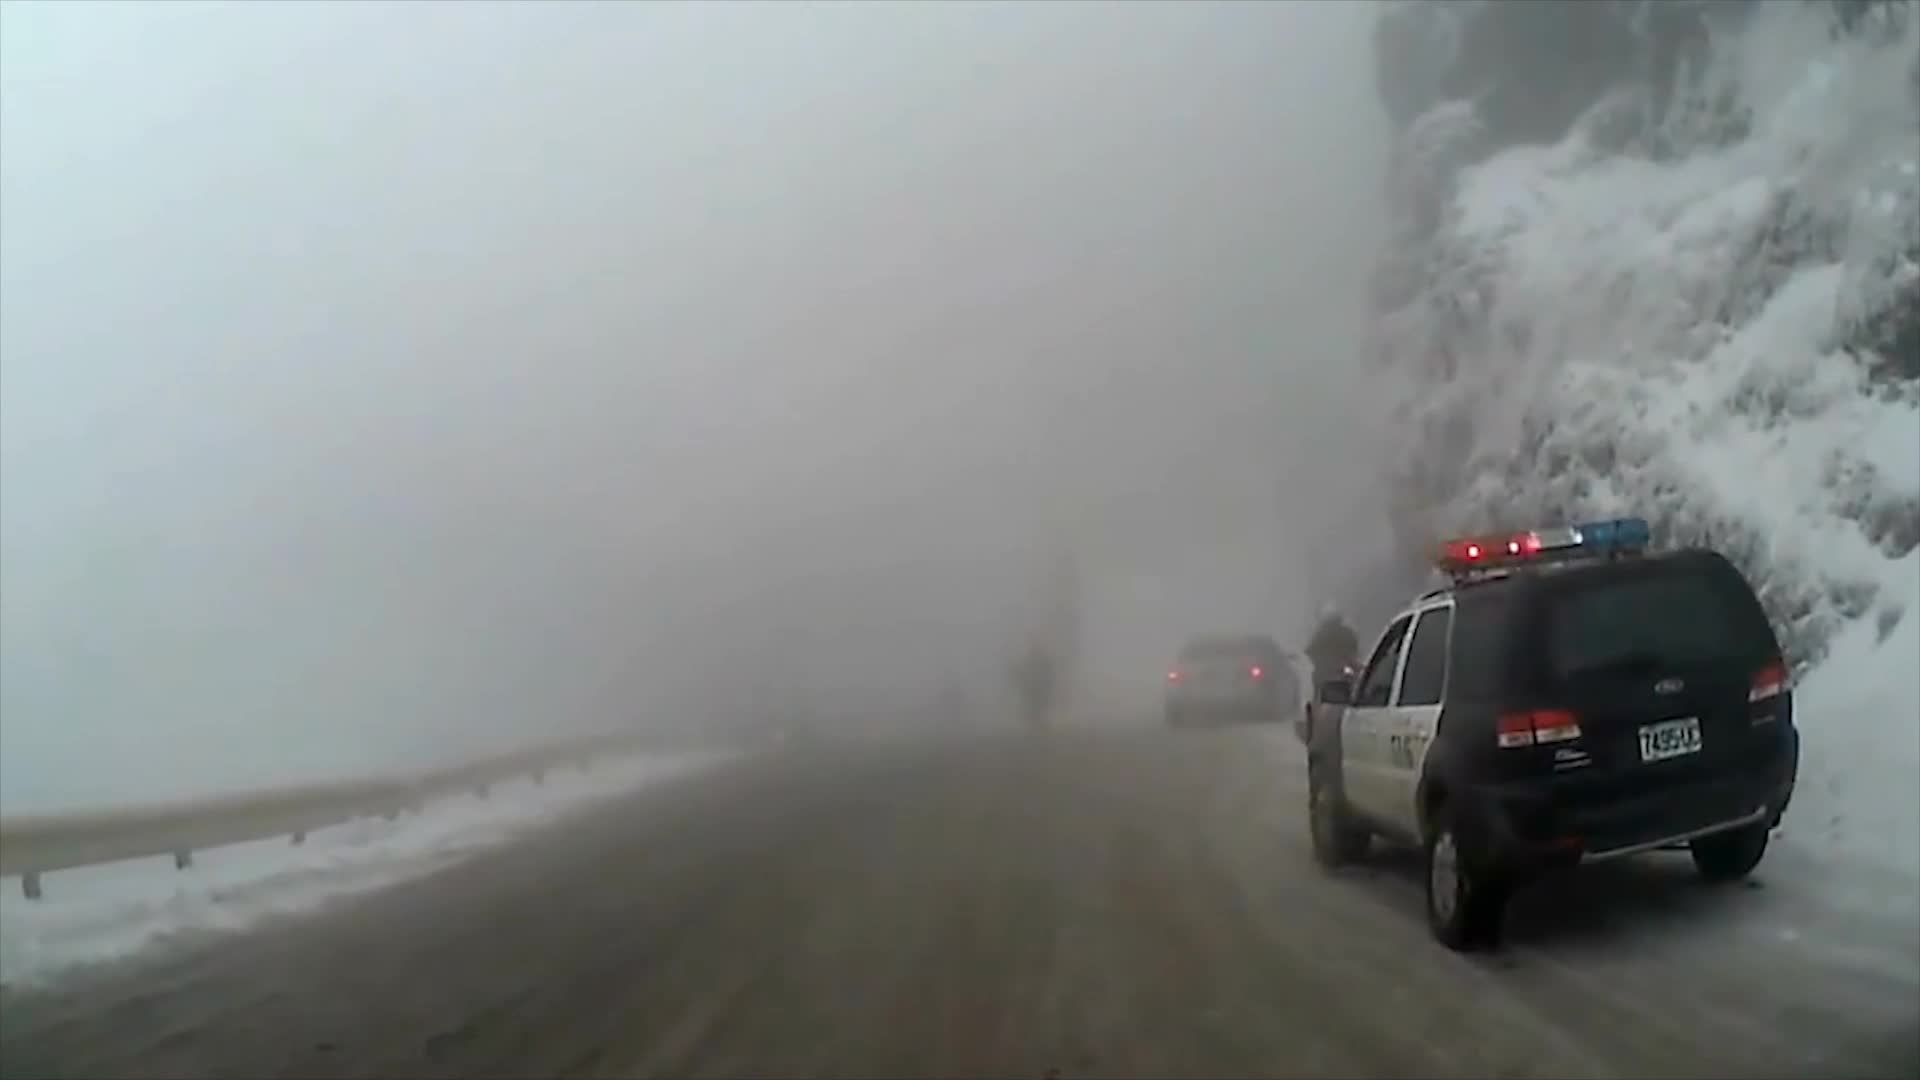pedestrian: (1303, 600, 1363, 751)
vehicle: (1297, 514, 1804, 947), (1159, 632, 1296, 730)
